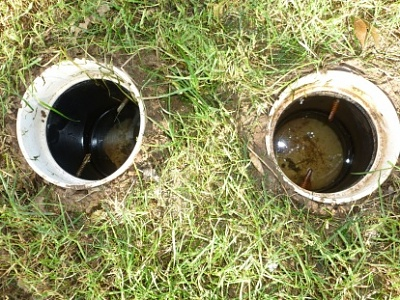bucket: (259, 66, 400, 206), (261, 67, 400, 206), (13, 58, 151, 197)
container: (12, 51, 153, 191)
vegetation: (1, 209, 400, 300), (156, 8, 261, 299), (1, 1, 400, 56)
water: (272, 91, 386, 190), (46, 80, 140, 184)
